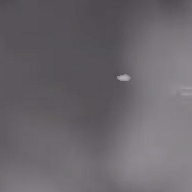Target: (117, 74, 131, 81)
